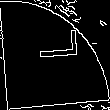L_W: (29, 37, 81, 73)
